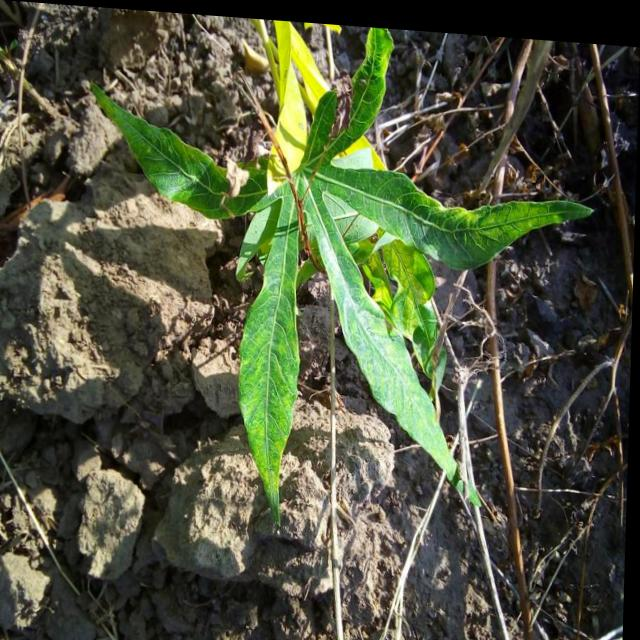Mosaico: (267, 22, 319, 162), (369, 238, 432, 324)
